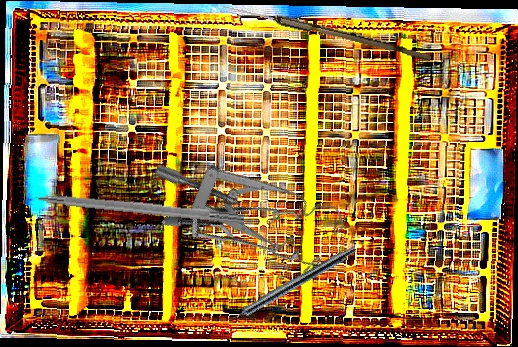Handpiece: (217, 241, 359, 331)
Hook Surgical: (11, 186, 246, 226)
Speculum: (151, 97, 356, 303), (160, 144, 325, 305)
Surgical Spoon: (221, 2, 433, 61)
